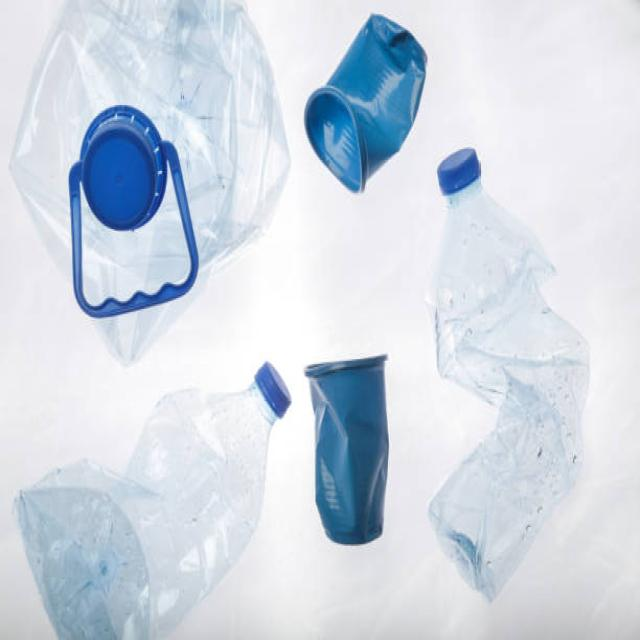plastic: (28, 80, 568, 607)
